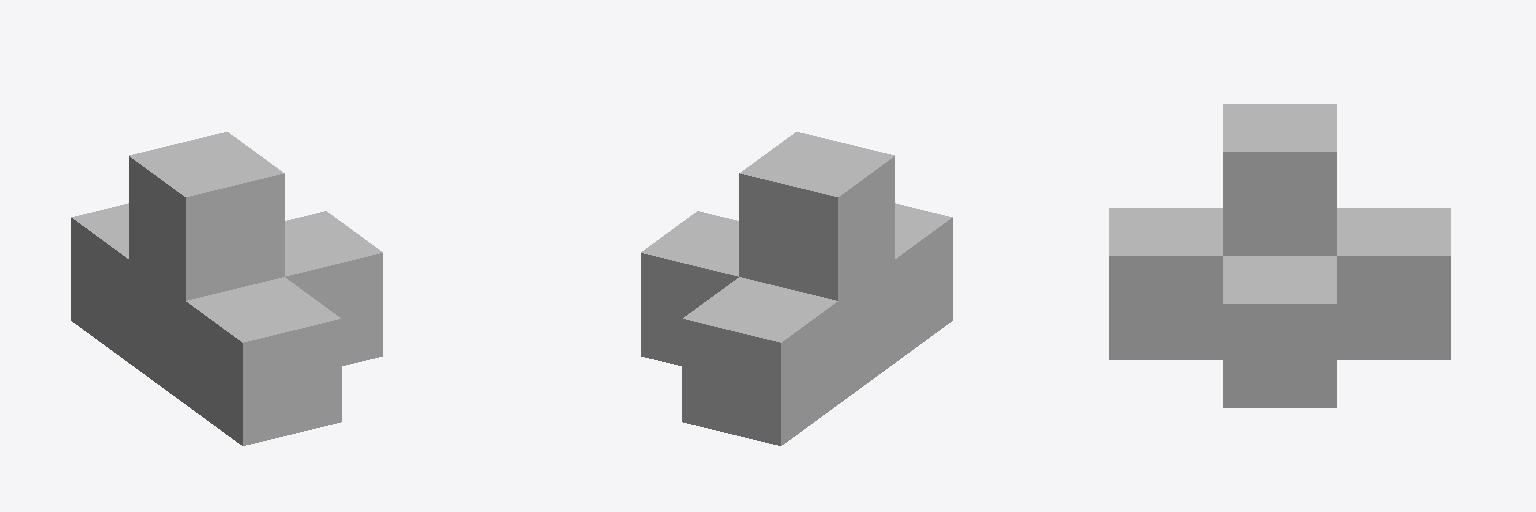
The model's file is block.obj.
3 renders of one model, left to right at view 1: azimuth 30°, elevation 25°; view 2: azimuth 150°, elevation 25°; view 3: azimuth 270°, elevation 25°, orthographic.
Parts seen in each view (by area): view 1: Cube_Cube.001; view 2: Cube_Cube.001; view 3: Cube_Cube.001.
Part boxes in pixels (x1,y1,x2,y2): Cube_Cube.001: (71, 132, 382, 445); Cube_Cube.001: (641, 132, 952, 445); Cube_Cube.001: (1109, 104, 1450, 407).
Bounding box in the file's own units: 1.32 × 1.32 × 1.98.